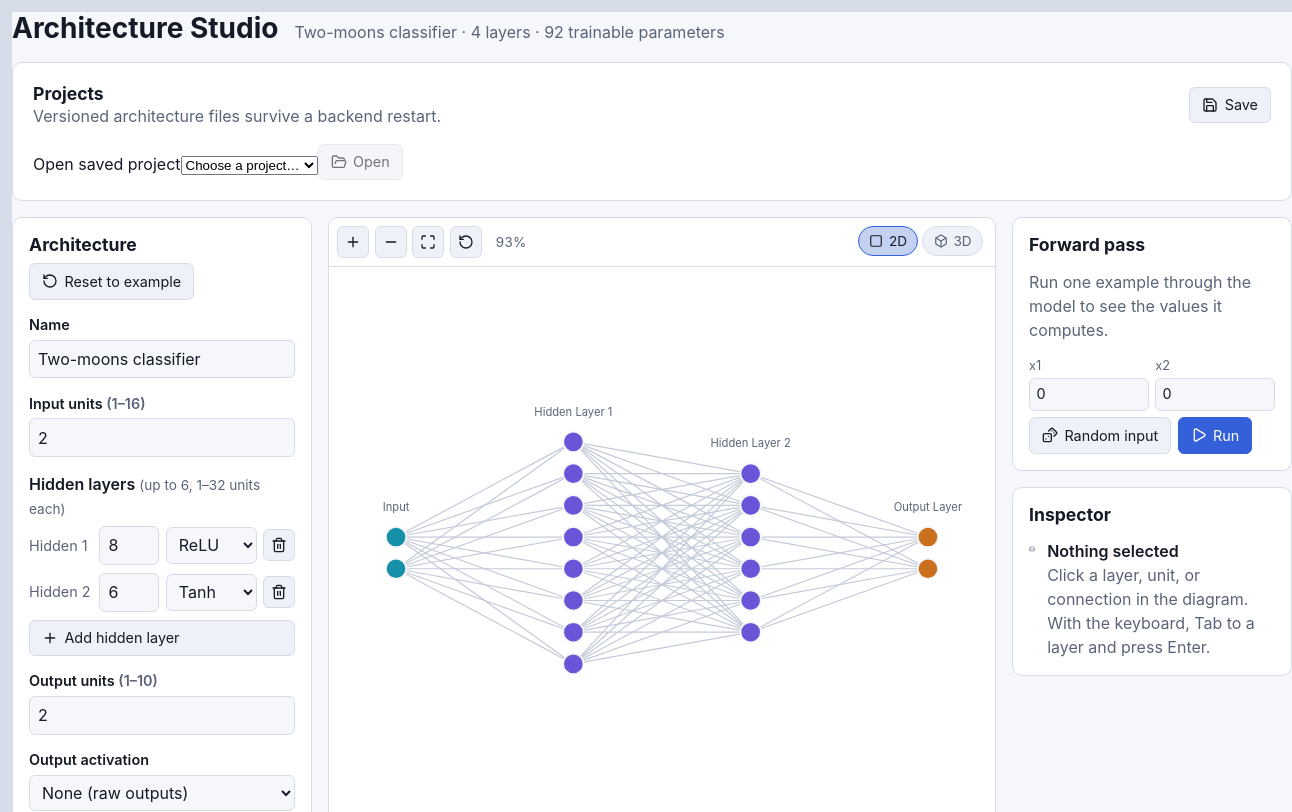
it: Forward pass in the studio › rejects inputs that are not numbers
Check: the button "Hidden Layer 1, 8 units" is shown, box left=534, top=405, right=612, bottom=419
Clear the number field named "Input 1" at (1089, 394), box left=1029, top=378, right=1149, bottom=411
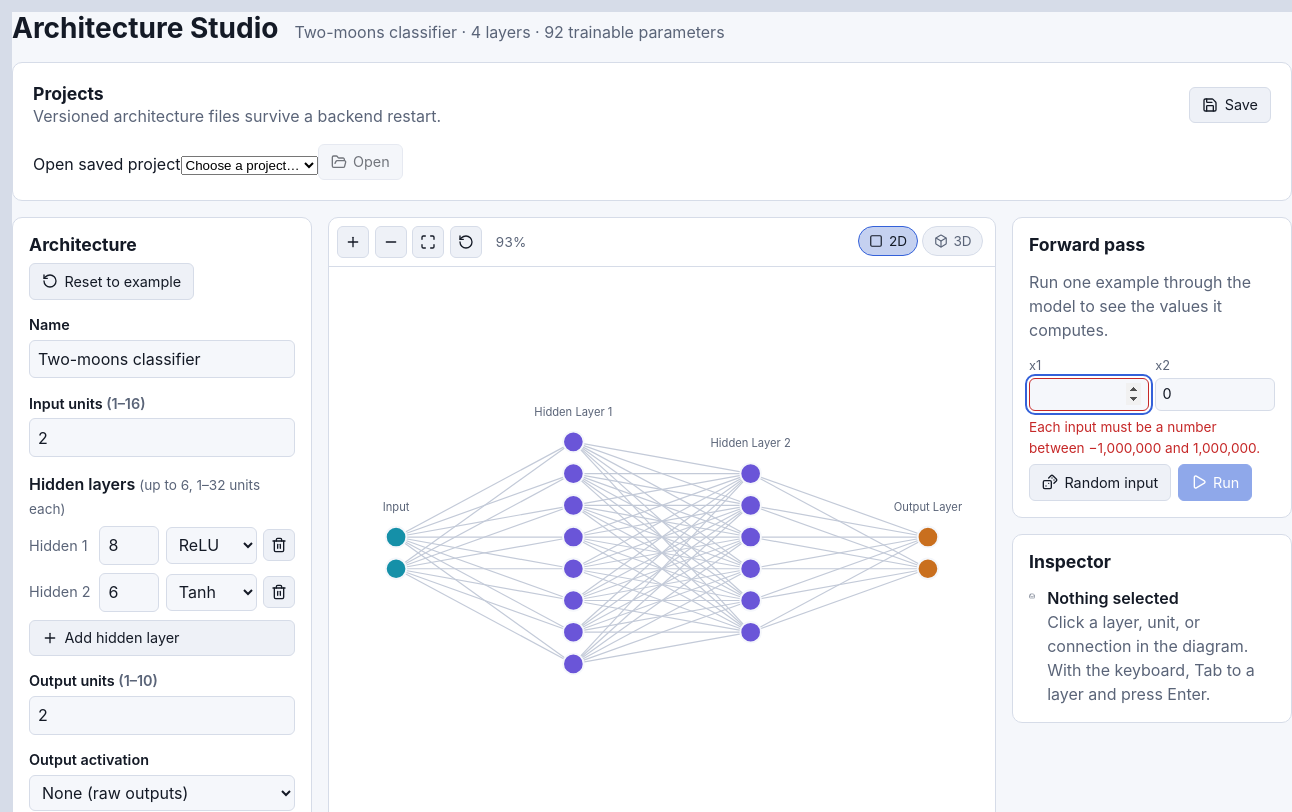
Check: the text "Each input must be a number" is shown, box left=1029, top=419, right=1260, bottom=456
Check: the button "Run" is disabled, box left=1178, top=464, right=1252, bottom=501
